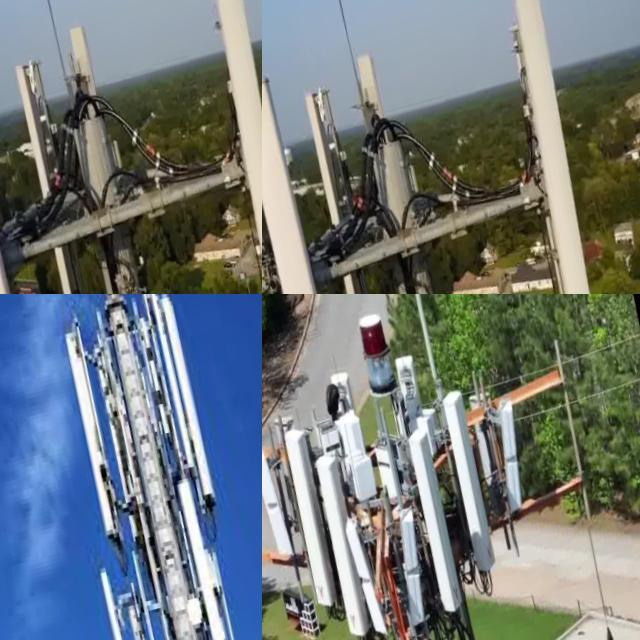GSM Antenna: (467, 0, 640, 294), (262, 65, 410, 294), (0, 51, 113, 294), (285, 74, 406, 294), (39, 301, 145, 551), (142, 294, 245, 536), (395, 421, 494, 625), (156, 451, 261, 640), (425, 381, 520, 582), (304, 451, 399, 640), (262, 39, 330, 294), (273, 423, 359, 611), (346, 49, 421, 221), (218, 0, 262, 222), (58, 17, 124, 146), (83, 556, 172, 640), (262, 440, 306, 558)
Microwave Antenna: (182, 578, 217, 632)
